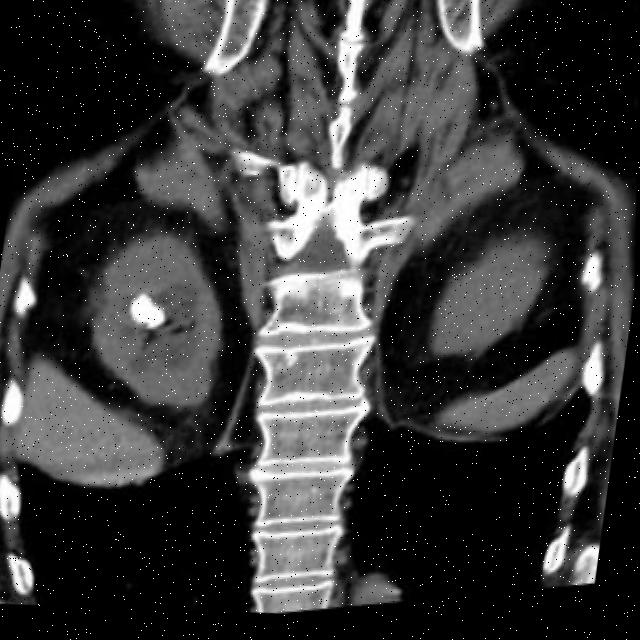Tas_Var: (121, 284, 179, 348)
